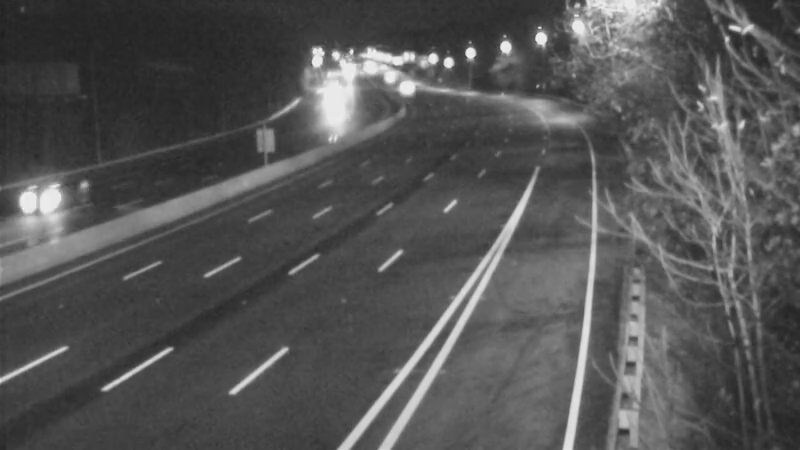vehicle: (9, 158, 89, 238), (387, 65, 437, 115)
